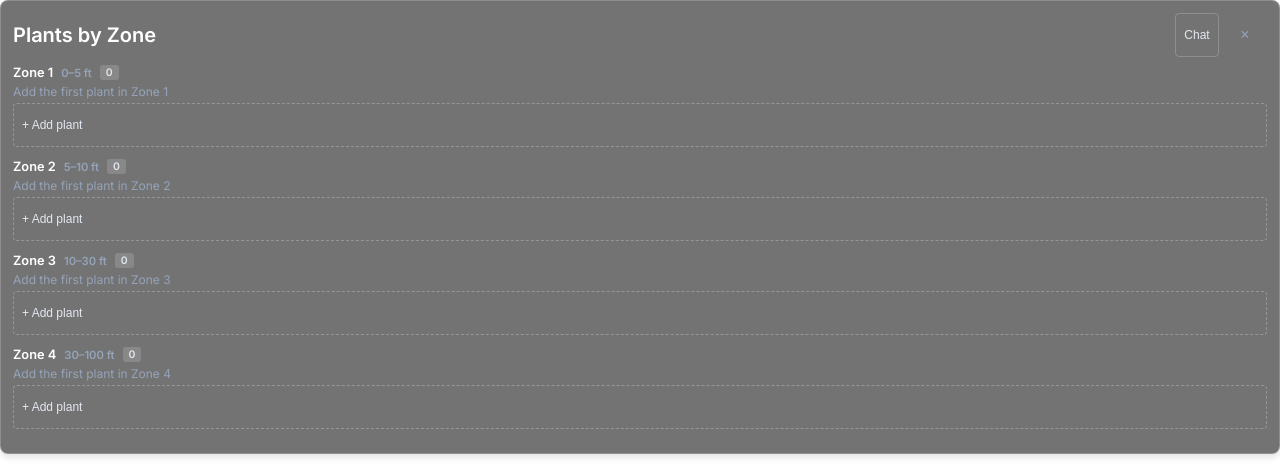
ZonePlantLists › clicking "+ Add plant" opens the combobox inline (not a modal)
The width and height of the screenshot is (1280, 476).
Click the button "+ Add plant" below "0–5 ft": (52, 125) [13, 103, 1267, 147]
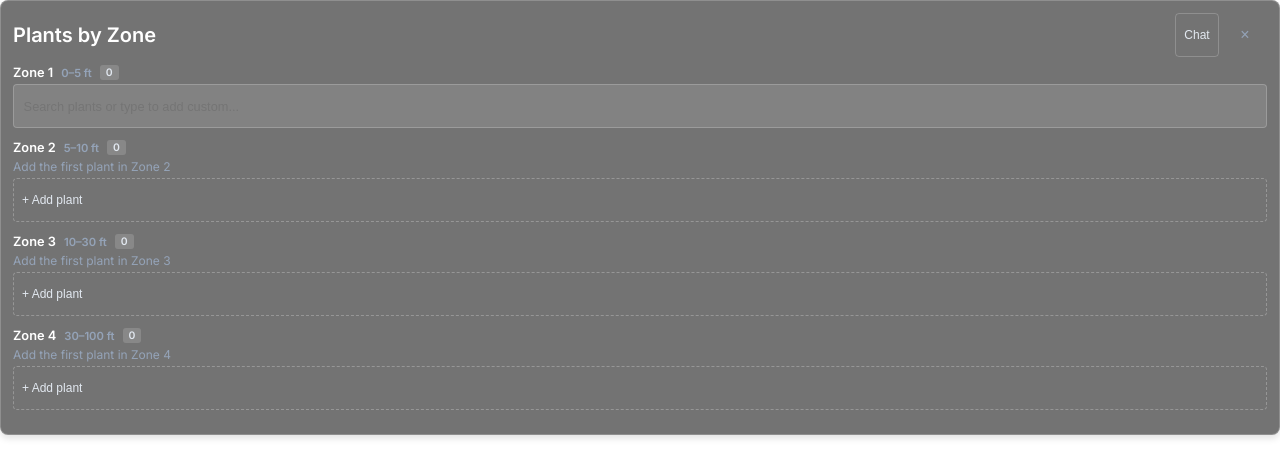
Now the number of dropdowns is 1, box [13, 84, 1267, 128]
